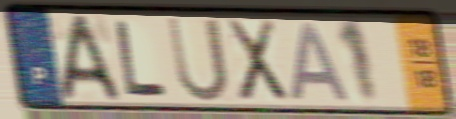1: (334, 16, 382, 108)
A: (59, 12, 124, 103), (287, 20, 353, 104)
L: (111, 18, 170, 99)
U: (163, 14, 231, 104)
X: (223, 17, 291, 105)
